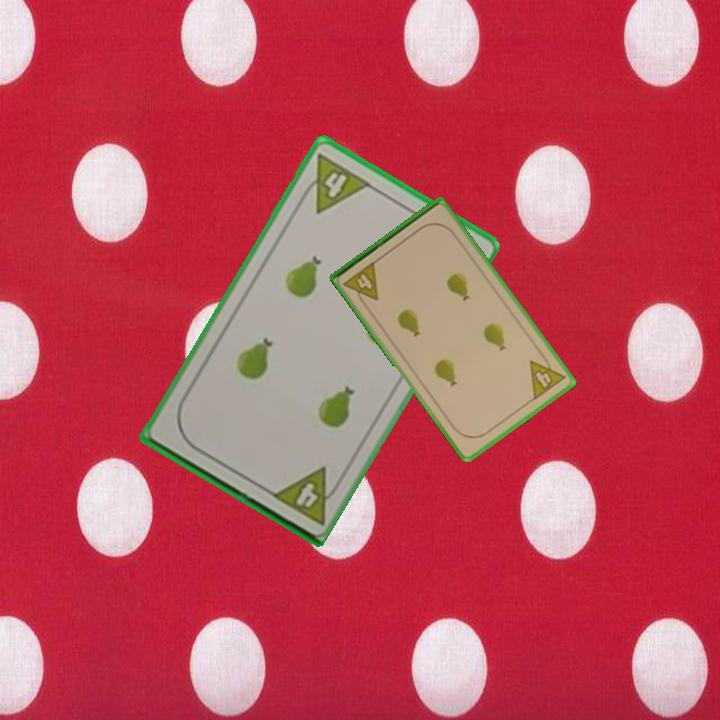4p: (294, 149, 373, 216), (267, 463, 346, 528), (526, 349, 568, 403), (340, 258, 382, 310)
